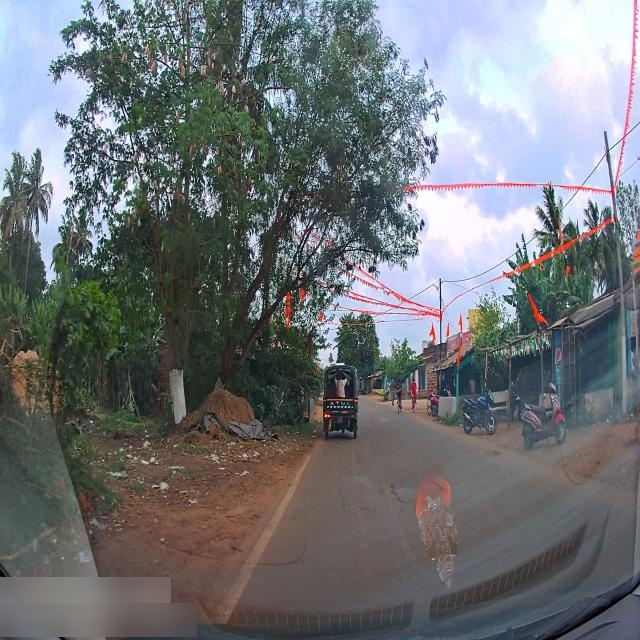pothole: (380, 479, 404, 516)
